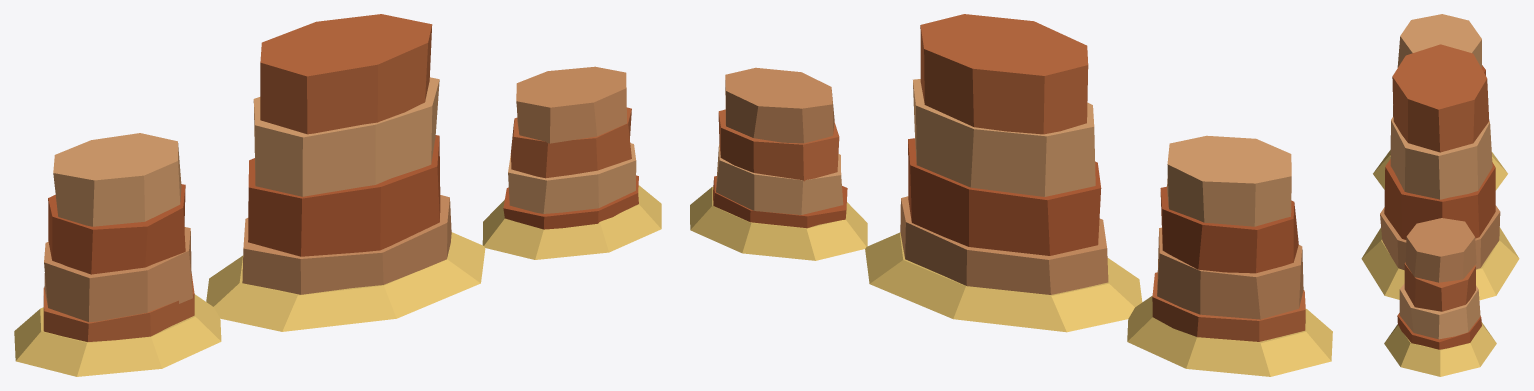
Rendered from mesas.glb.
The picture shows the model from 3 angles, left to right: view 1: azimuth 30°, elevation 25°; view 2: azimuth 150°, elevation 25°; view 3: azimuth 270°, elevation 25°; orthographic projection. The views are drawn at different scales.
Parts seen in each view (by area): view 1: mesas; view 2: mesas; view 3: mesas.
Boxes of the visible parts, <box> form: mesas: <box>14,14,661,376</box>; mesas: <box>690,14,1332,376</box>; mesas: <box>1361,14,1519,376</box>.
Bounding box in the file's own units: 34.13 × 12.17 × 9.45.
